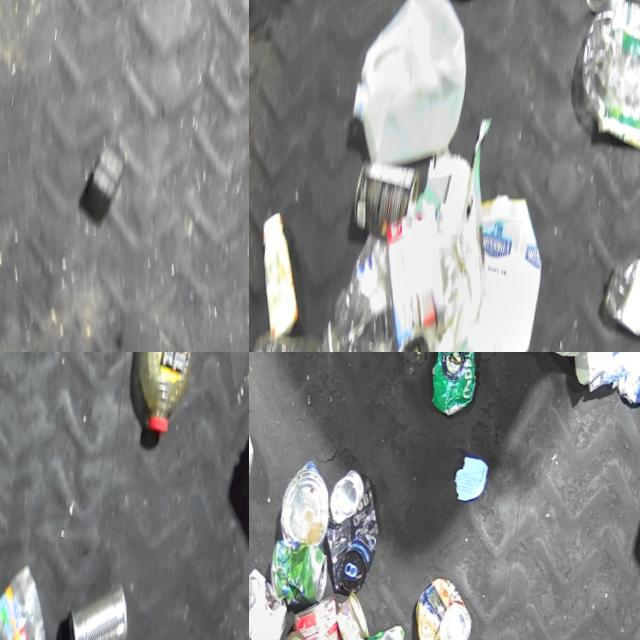can: (307, 464, 387, 596), (269, 454, 335, 548), (345, 156, 421, 237), (51, 575, 131, 640), (258, 536, 329, 609), (401, 572, 475, 640), (270, 588, 358, 640), (420, 352, 485, 418), (249, 564, 291, 640), (323, 589, 372, 640), (338, 615, 403, 640), (572, 0, 640, 21)
milk_jug: (335, 0, 481, 178)
plastic_bottle: (307, 225, 464, 352), (562, 0, 640, 161), (590, 249, 640, 351)
